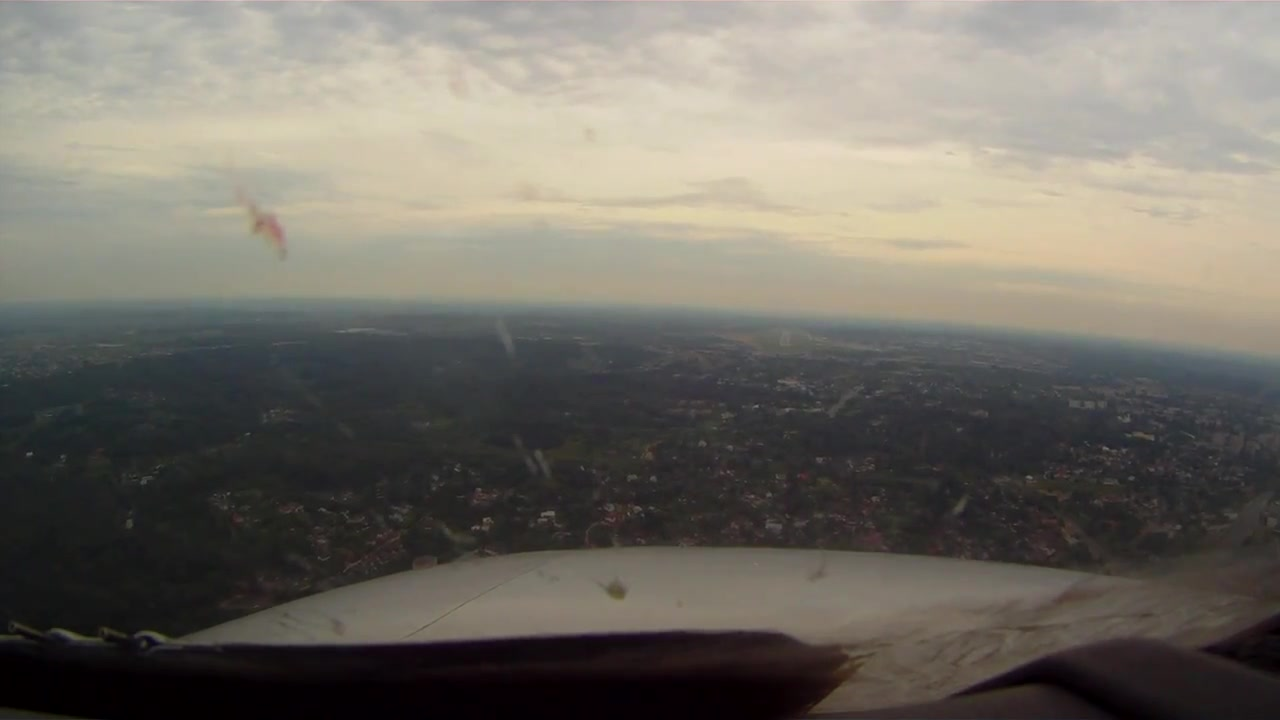runway: (778, 328, 792, 348)
